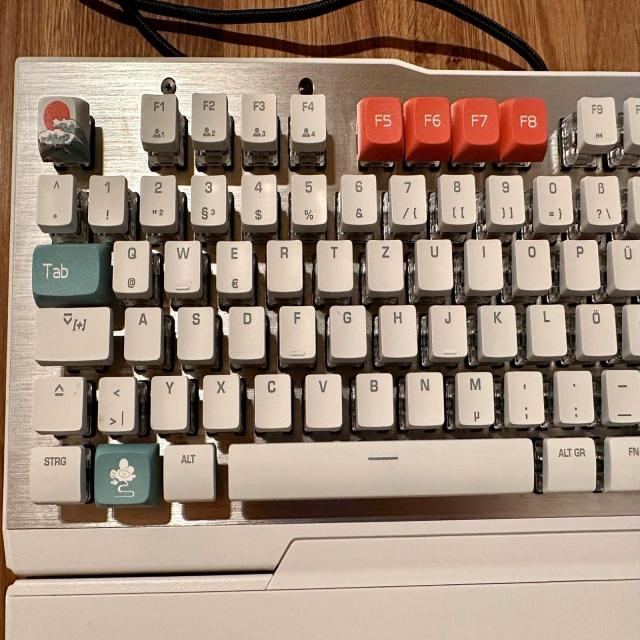0: (533, 171, 574, 225)
1: (85, 171, 126, 226)
2: (137, 171, 176, 227)
3: (188, 171, 227, 227)
4: (238, 170, 278, 228)
5: (289, 170, 328, 228)
6: (338, 170, 378, 226)
7: (387, 171, 427, 227)
8: (437, 170, 477, 228)
9: (485, 170, 526, 225)
a: (122, 302, 162, 360)
alt-left: (161, 439, 216, 500)
altgr-right: (541, 433, 597, 492)
b: (352, 368, 394, 427)
c: (251, 369, 292, 429)
caret: (35, 172, 75, 228)
comma: (503, 366, 544, 424)
d: (224, 301, 266, 359)
e: (213, 237, 253, 294)
f: (276, 301, 316, 358)
g: (326, 301, 367, 358)
h: (376, 302, 418, 358)
i: (464, 235, 504, 289)
j: (427, 301, 468, 357)
k: (477, 300, 518, 357)
keyboard: (8, 50, 637, 576)
l: (526, 300, 568, 355)
less: (95, 372, 136, 433)
m: (454, 367, 495, 426)
minus: (601, 365, 640, 423)
n: (404, 368, 445, 426)
o: (512, 234, 552, 289)
oe: (575, 299, 618, 356)
p: (561, 234, 601, 289)
point: (553, 365, 595, 423)
q: (109, 236, 151, 296)
r: (264, 236, 303, 292)
s: (174, 301, 214, 360)
shift-left: (30, 372, 86, 430)
shift-lock: (31, 302, 113, 361)
space: (223, 434, 539, 497), (6, 522, 314, 575)
ss: (580, 171, 622, 225)
strg-left: (26, 441, 82, 502)
t: (314, 235, 353, 291)
tab: (30, 239, 100, 300)
u: (414, 235, 453, 290)
ue: (608, 234, 640, 290)
v: (302, 369, 343, 428)
w: (161, 235, 202, 294)
x: (199, 370, 240, 429)
y: (147, 370, 188, 430)
z: (364, 235, 404, 291)
